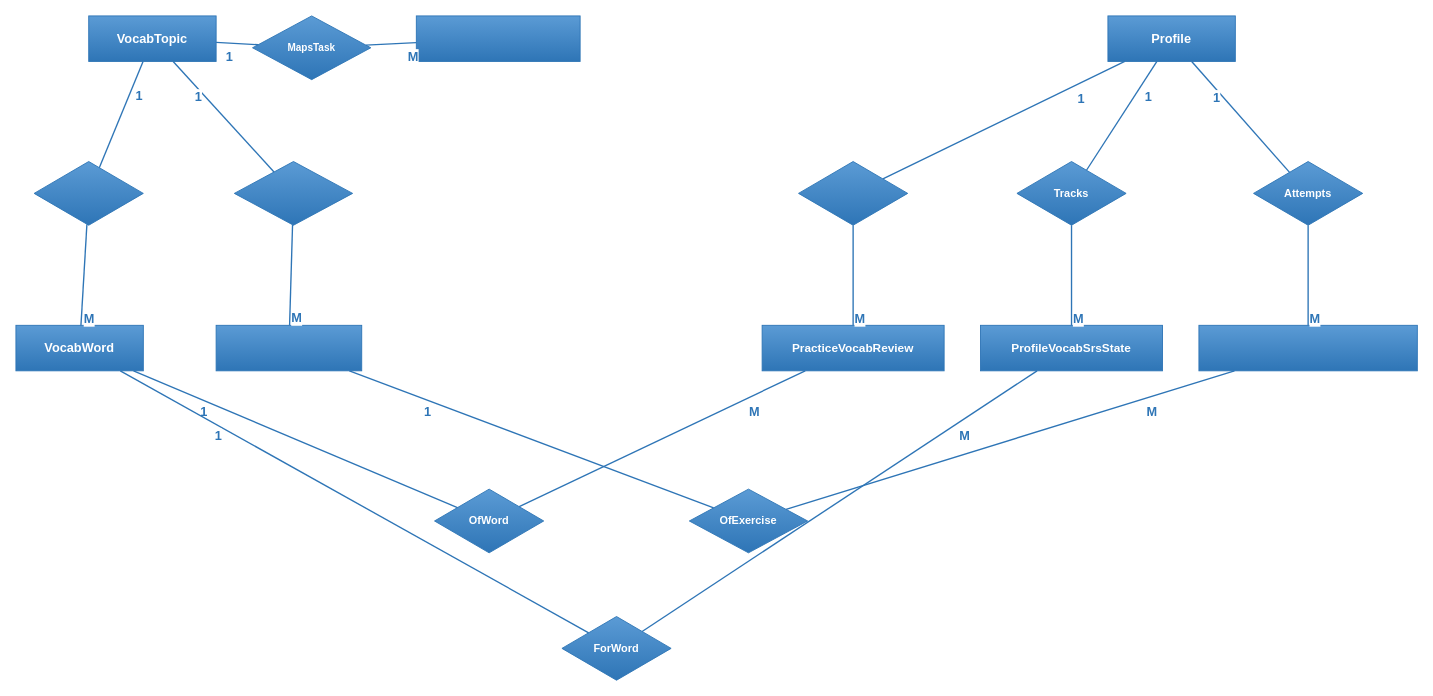
The diagram is 1433 pixels wide and 696 high, and some of its shapes have lost their labels. Each missing label, with the centre of its shape:
"Contains" goes at point 88,193.
"HasExercise" goes at point 293,193.
"PracticeVocabExerciseAttempt" goes at point 1307,347.
"Records" goes at point 853,193.
"VocabExercise" goes at point 288,347.
"VocabTopicTask" goes at point 497,38.
